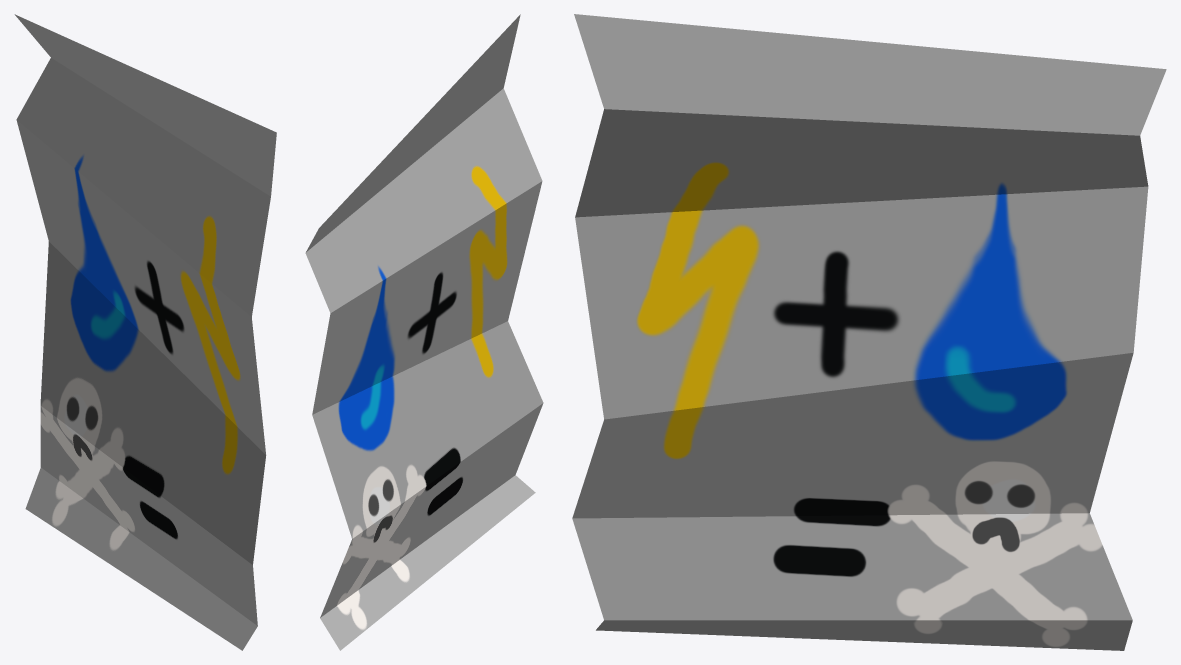
Rendered from Poster1.fbx.
3 renders of one model, left to right at view 1: azimuth 30°, elevation 25°; view 2: azimuth 150°, elevation 25°; view 3: azimuth 270°, elevation 25°, orthographic. The views are drawn at different scales.
Parts seen in each view (by area): view 1: Plane; view 2: Plane; view 3: Plane.
Part boxes in pixels (x1=…): Plane: x1=14, y1=14, x2=276, y2=650; Plane: x1=305, y1=14, x2=543, y2=650; Plane: x1=572, y1=14, x2=1166, y2=650.
Bounding box in the file's own units: 0.1603 × 2.56 × 2.11.
